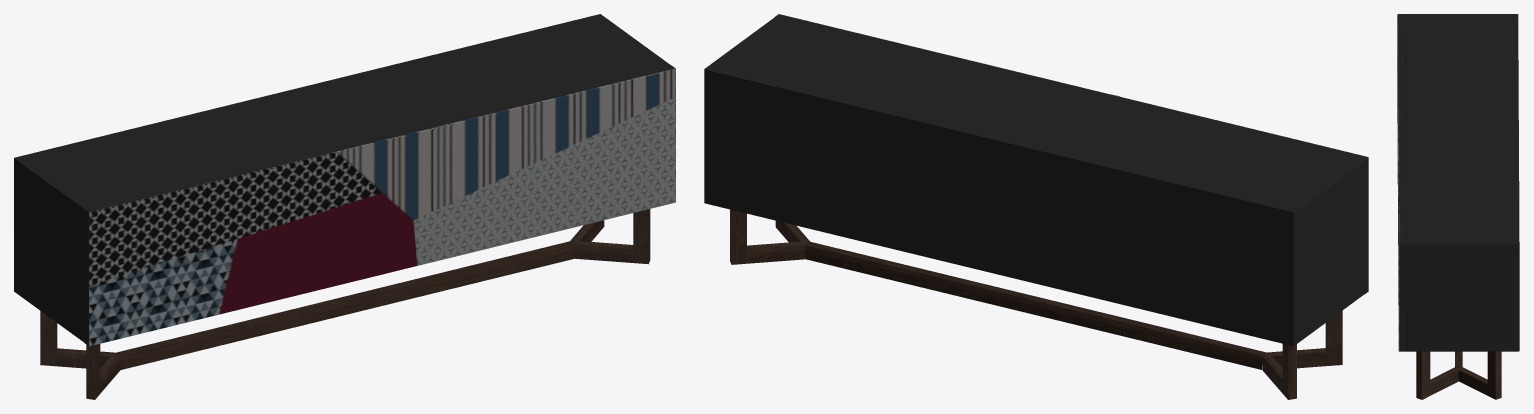
File: media_unit_floor_based_media_unit_1ec050c5-a295-5ce8-9c21-6197fce1230d.glb
The picture shows the model from 3 angles, left to right: view 1: azimuth 30°, elevation 25°; view 2: azimuth 150°, elevation 25°; view 3: azimuth 270°, elevation 25°; orthographic projection. The views are drawn at different scales.
Visible parts, largest first — view 1: raw_model.obj; view 2: raw_model.obj; view 3: raw_model.obj.
Boxes of the visible parts, x1,y1,x2,y2 form: raw_model.obj: [14, 14, 675, 399]; raw_model.obj: [704, 14, 1368, 399]; raw_model.obj: [1397, 14, 1519, 399].
Bounding box in the file's own units: 2.16 × 0.7028 × 0.484.
1 material, 1 textured.
